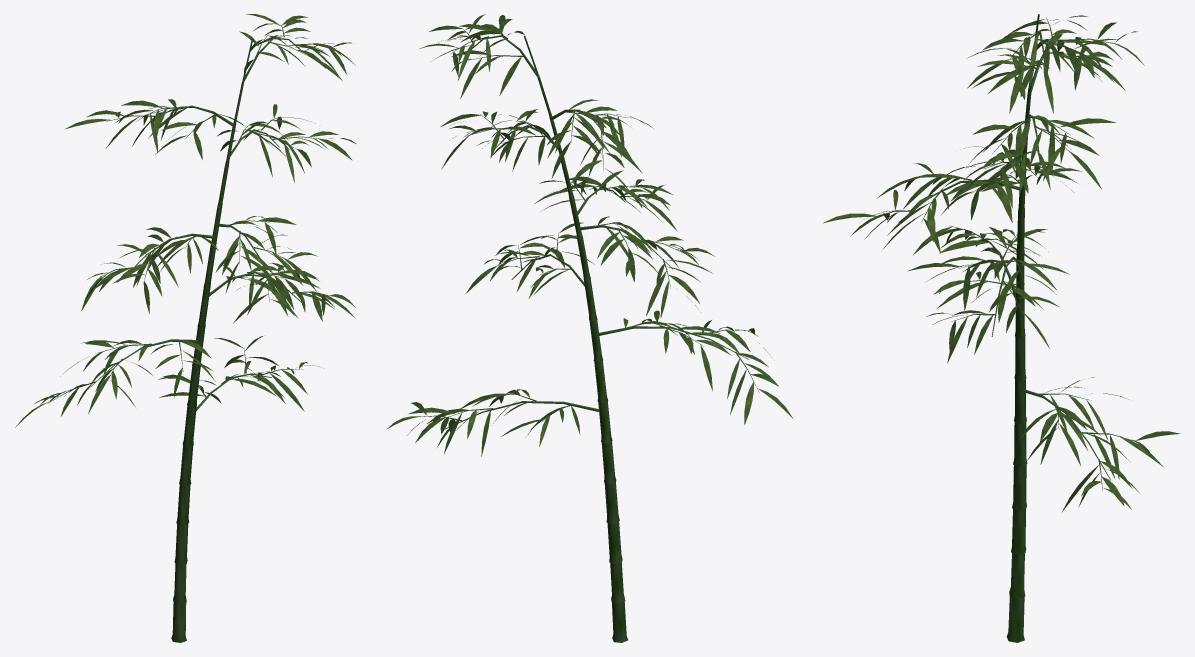
The model's file is bamboo_C_lod0.glb.
3 renders of one model, left to right at view 1: azimuth 30°, elevation 25°; view 2: azimuth 150°, elevation 25°; view 3: azimuth 270°, elevation 25°, orthographic. The views are drawn at different scales.
Visible parts, largest first — view 1: bamboo_C_L0__leaf, bamboo_C_L0__culm; view 2: bamboo_C_L0__leaf, bamboo_C_L0__culm; view 3: bamboo_C_L0__leaf, bamboo_C_L0__culm.
Part boxes in pixels (x1=…): bamboo_C_L0__leaf: x1=15, y1=14, x2=356, y2=427; bamboo_C_L0__culm: x1=47, y1=25, x2=336, y2=642; bamboo_C_L0__leaf: x1=386, y1=14, x2=792, y2=456; bamboo_C_L0__culm: x1=419, y1=28, x2=759, y2=642; bamboo_C_L0__leaf: x1=823, y1=15, x2=1180, y2=511; bamboo_C_L0__culm: x1=878, y1=14, x2=1140, y2=642.
Bounding box in the file's own units: 4.75 × 7.45 × 3.6.
2 materials, 2 textured.
